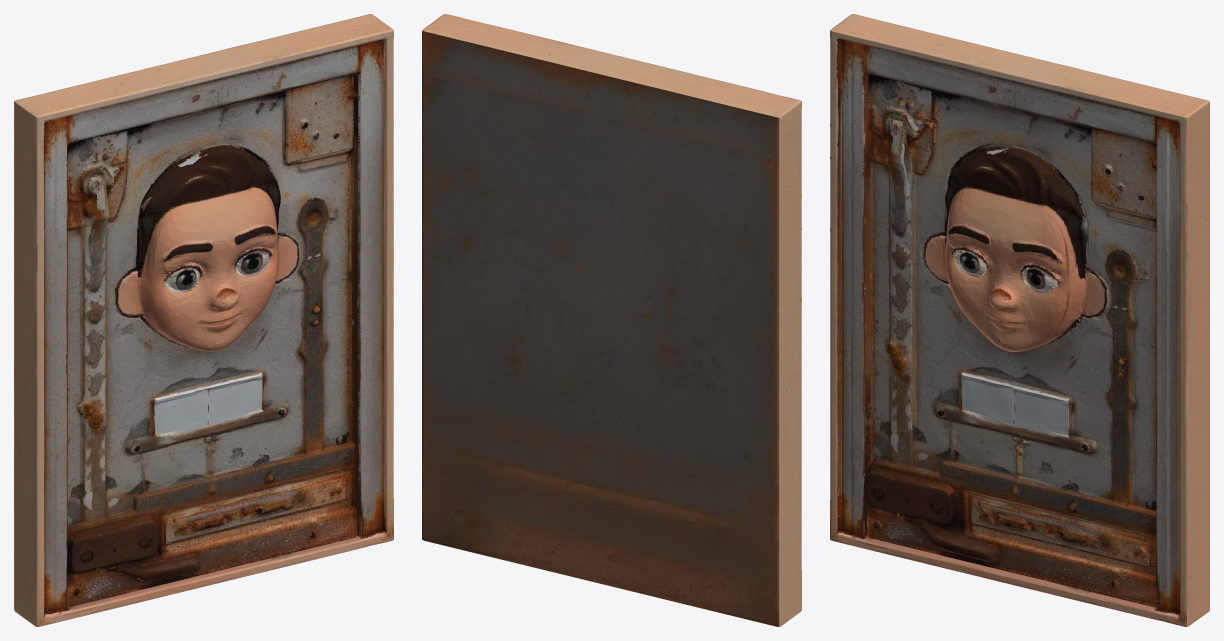
File: chest (173).glb
The picture shows the model from 3 angles, left to right: view 1: azimuth 30°, elevation 25°; view 2: azimuth 150°, elevation 25°; view 3: azimuth 330°, elevation 25°; orthographic projection.
Visible parts, largest first — view 1: Hy21_Mesh.obj; view 2: Hy21_Mesh.obj; view 3: Hy21_Mesh.obj.
Boxes of the visible parts, x1,y1,x2,y2 form: Hy21_Mesh.obj: (14,14,393,626); Hy21_Mesh.obj: (422,14,801,626); Hy21_Mesh.obj: (830,14,1209,626).
Size of the model in its own units: 1.44 by 1.96 by 0.2532.
Materials: 1 (1 with a texture image).
